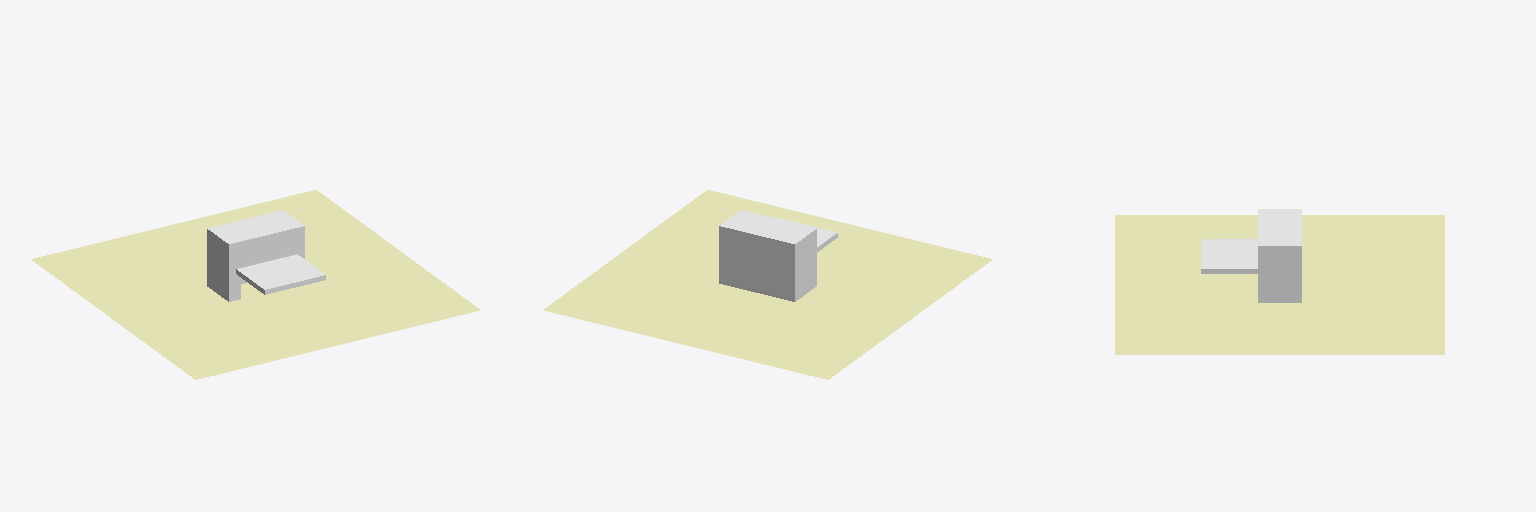
Rendered from overhang.obj.
3 views of the same model, side by side, from view 1: azimuth 30°, elevation 25°; view 2: azimuth 150°, elevation 25°; view 3: azimuth 270°, elevation 25° (orthographic).
Visible parts, largest first — view 1: overhang.obj; view 2: overhang.obj; view 3: overhang.obj.
Part boxes in pixels (x1,y1,x2,y2): overhang.obj: (31,190,480,379); overhang.obj: (543,190,992,379); overhang.obj: (1115,209,1444,354).
Size of the model in its own units: 30 by 5.79 by 30.